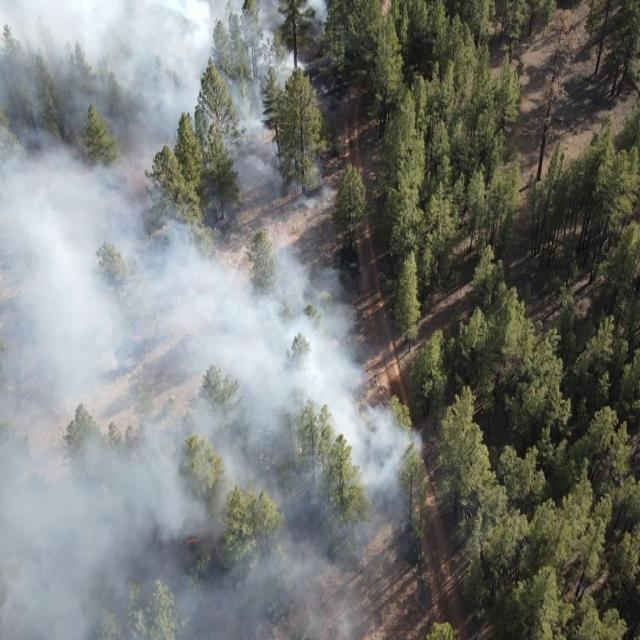fire: (182, 533, 205, 549), (329, 336, 341, 350)
smoke: (0, 0, 343, 640), (343, 275, 425, 640)
